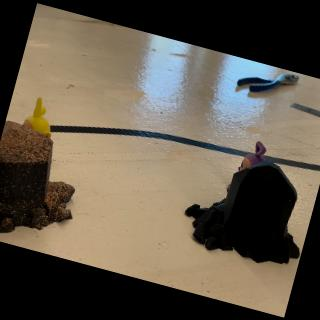teletubby: (22, 97, 51, 138), (238, 141, 266, 170)
